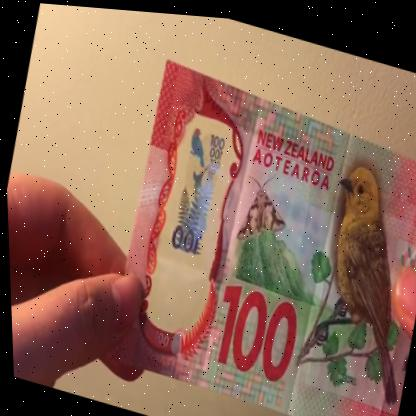100B: (147, 113, 236, 317)
